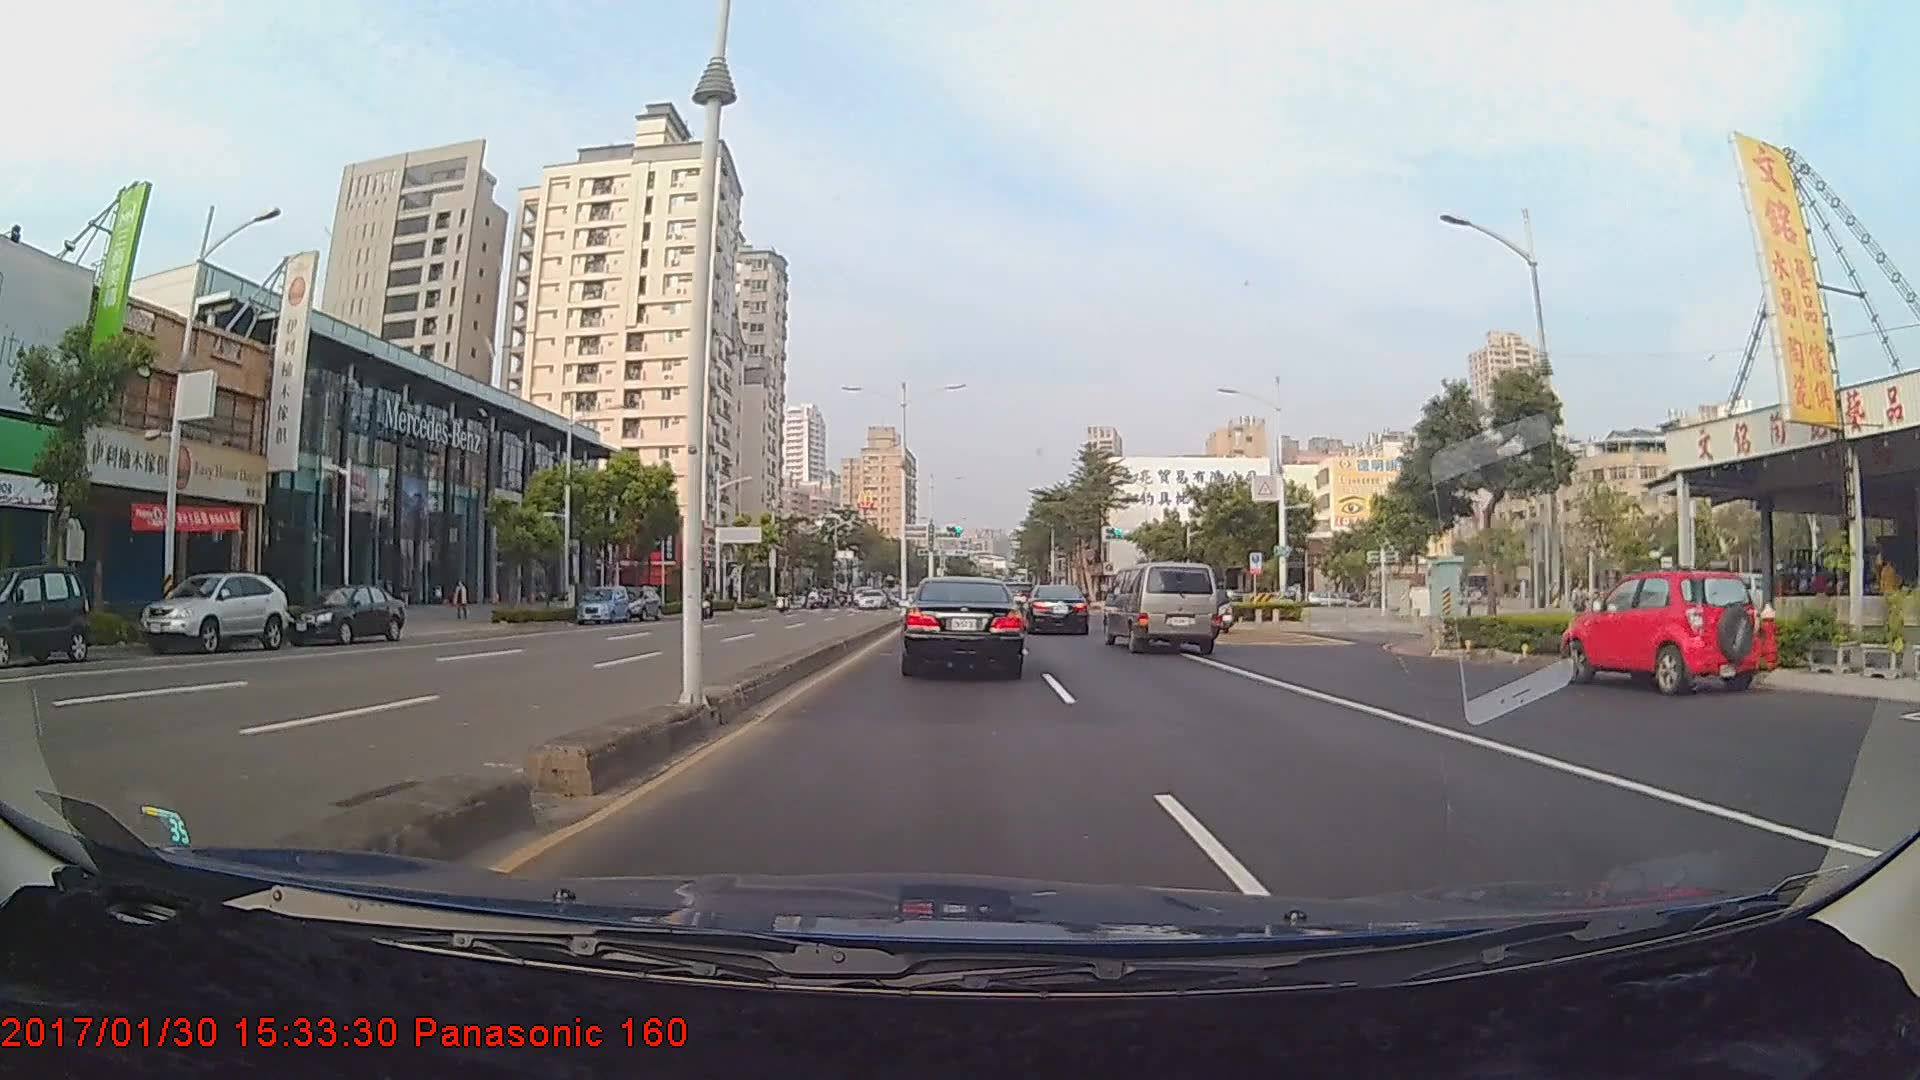pedestrian: (1879, 557, 1900, 636), (451, 579, 471, 622)
vehicle: (1572, 568, 1755, 696), (902, 575, 1024, 677), (138, 567, 285, 652), (1103, 561, 1219, 653), (0, 561, 90, 666), (280, 583, 406, 645), (1021, 583, 1091, 636), (576, 583, 630, 624), (617, 586, 656, 621), (858, 586, 888, 608)
